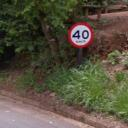speed_limit_40: (68, 22, 94, 49)
